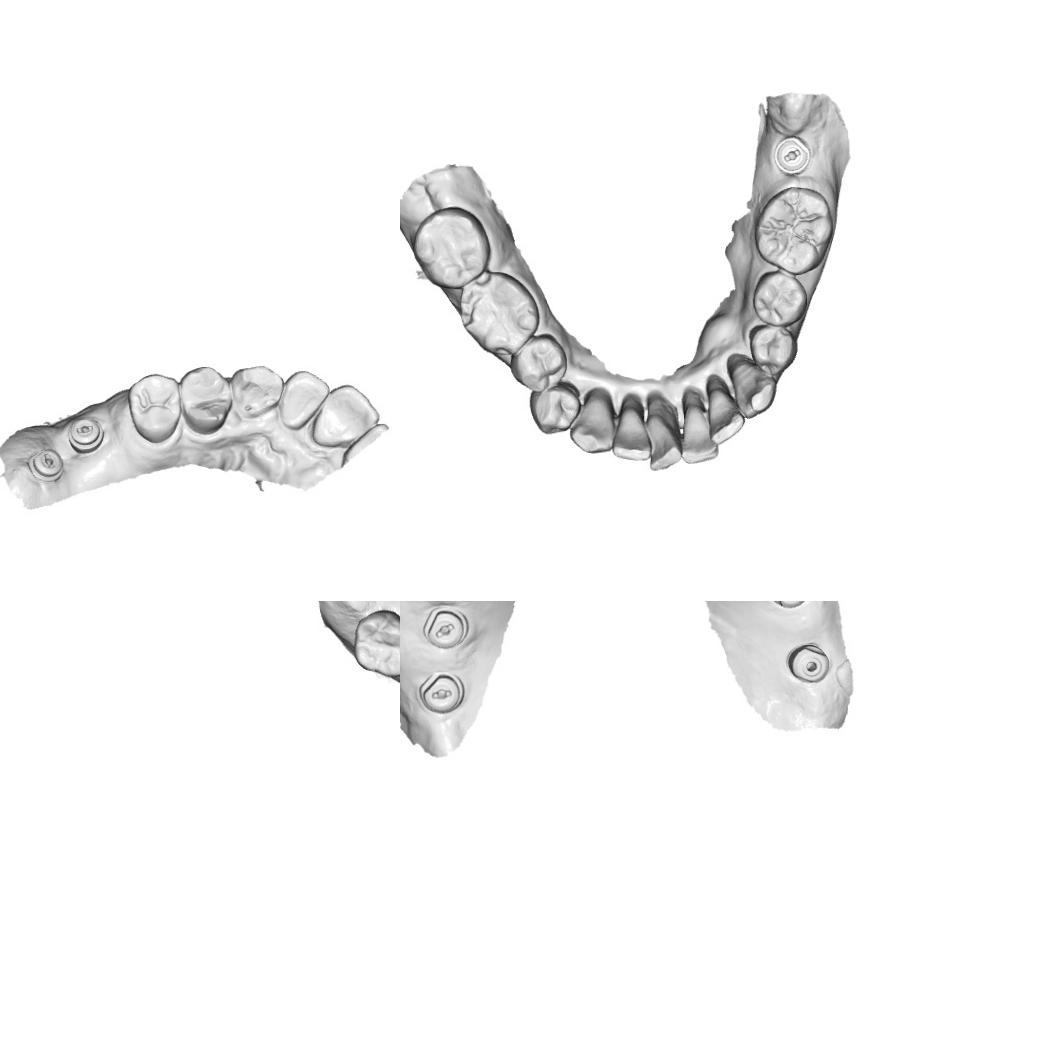canine: (566, 386, 617, 456), (726, 352, 779, 419), (228, 363, 286, 421)
implant: (785, 637, 831, 684)
implant_minus: (418, 604, 470, 650), (414, 672, 463, 712), (772, 134, 812, 176), (66, 414, 106, 455), (26, 445, 65, 481)
incisor: (310, 381, 383, 448), (276, 368, 331, 431), (678, 385, 719, 465), (609, 392, 654, 462), (643, 394, 683, 472), (705, 372, 746, 446)
molar: (753, 184, 834, 276), (457, 268, 536, 358), (411, 205, 492, 289), (353, 607, 400, 678)
premolar: (125, 371, 183, 445), (177, 365, 234, 436), (507, 331, 568, 394), (751, 268, 810, 328), (528, 380, 582, 436), (747, 322, 799, 378)
